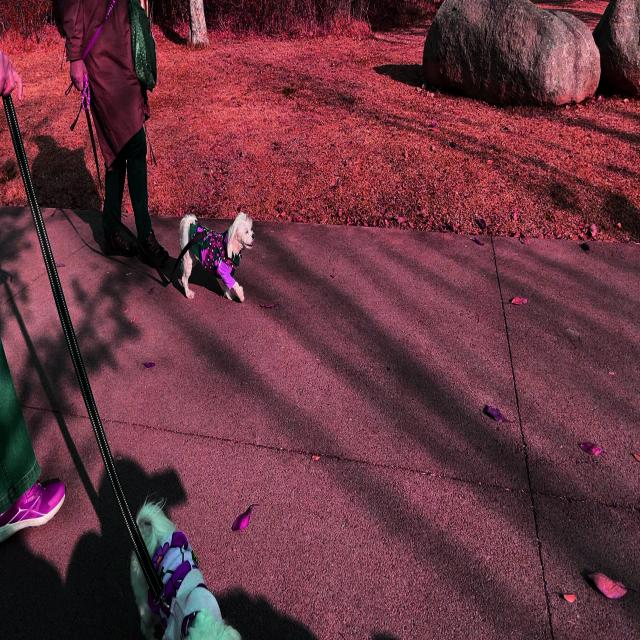Leashed_Dog: (0, 44, 243, 640), (69, 56, 255, 304)
